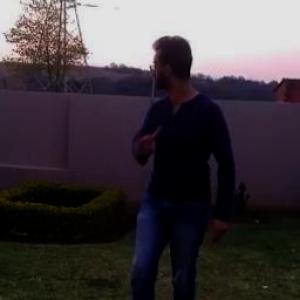takeoff-hand: (128, 116, 159, 155)
